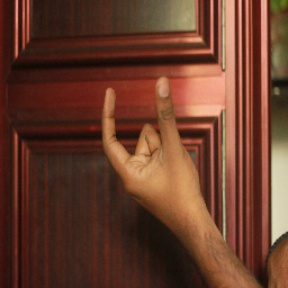U: (98, 71, 194, 198)
